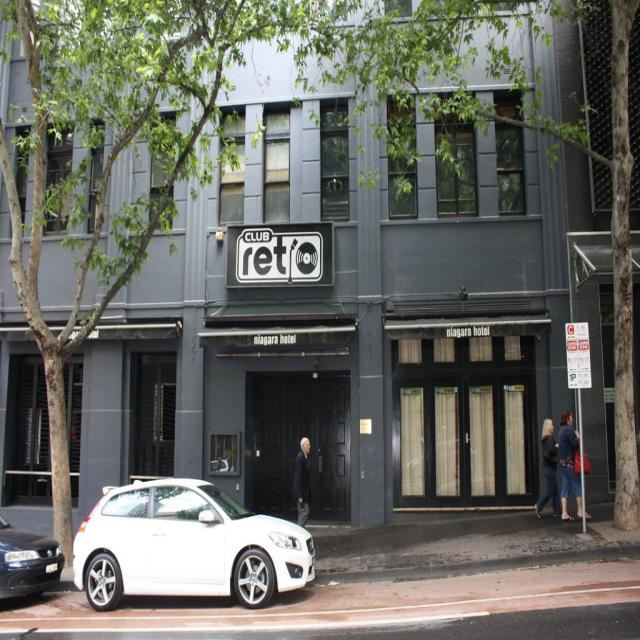car: (71, 476, 313, 611)
